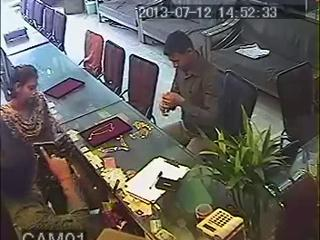Normal: (178, 105, 304, 240), (0, 61, 60, 233), (159, 30, 225, 149), (0, 64, 58, 145), (276, 61, 318, 149), (220, 70, 258, 137), (80, 116, 132, 149)
